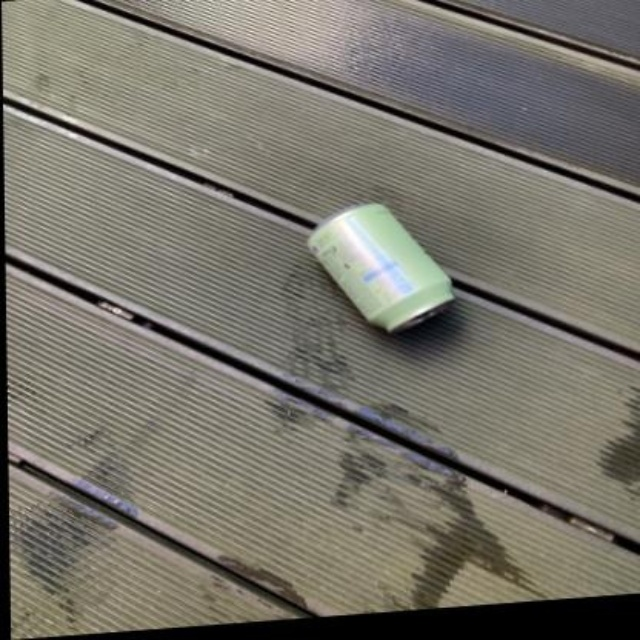trash: (308, 203, 452, 331)
